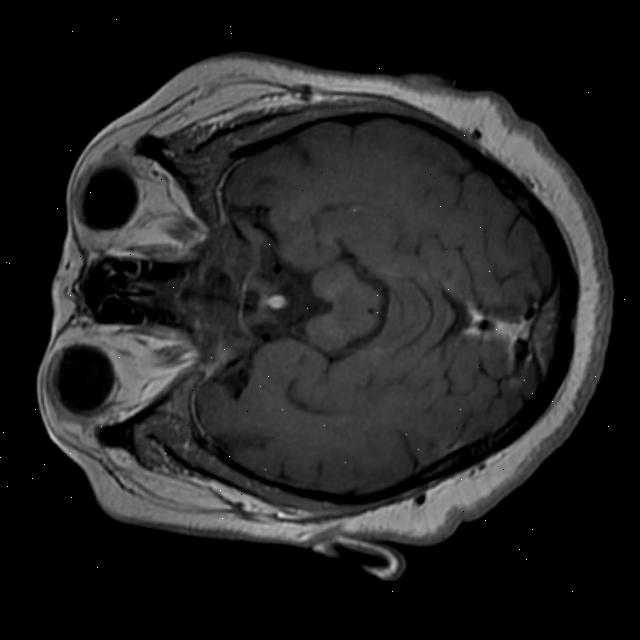Pituitary: (263, 289, 289, 315)
